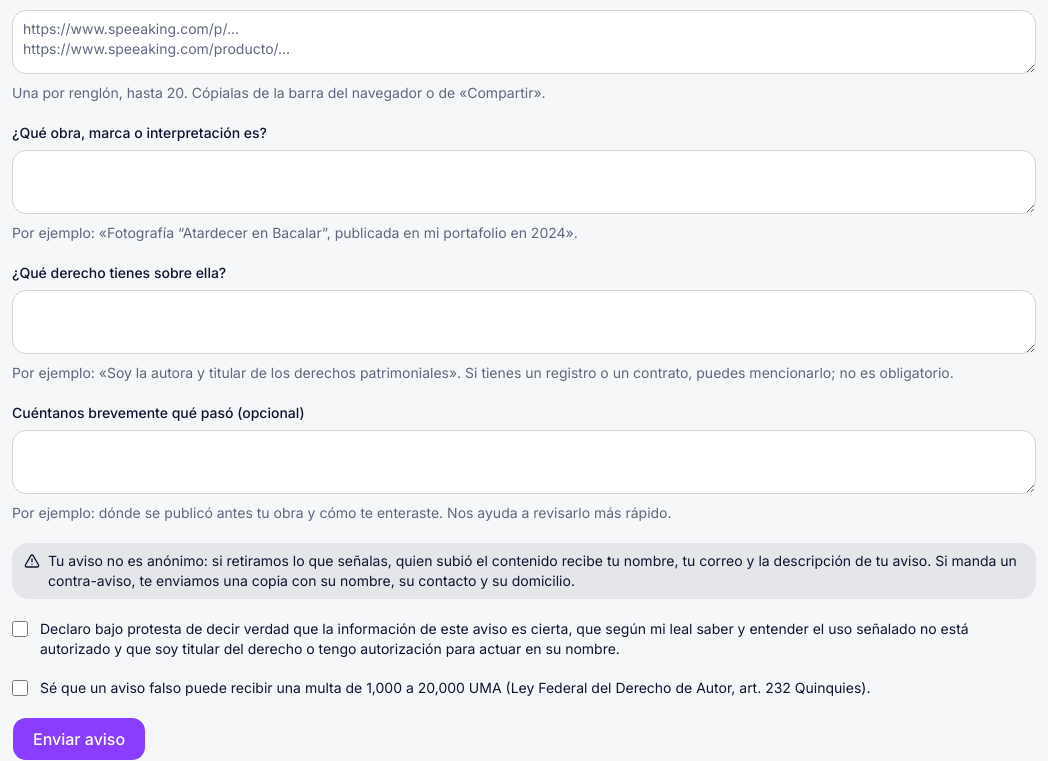
Test case: NoticeForm al enviarse (ADR-076) › si lo señalado es de varias cuentas, da un número de caso por cada una
(page scrolled)
Click the button "Enviar aviso" at (79, 739), box [12,717,146,760]
(page scrolled)
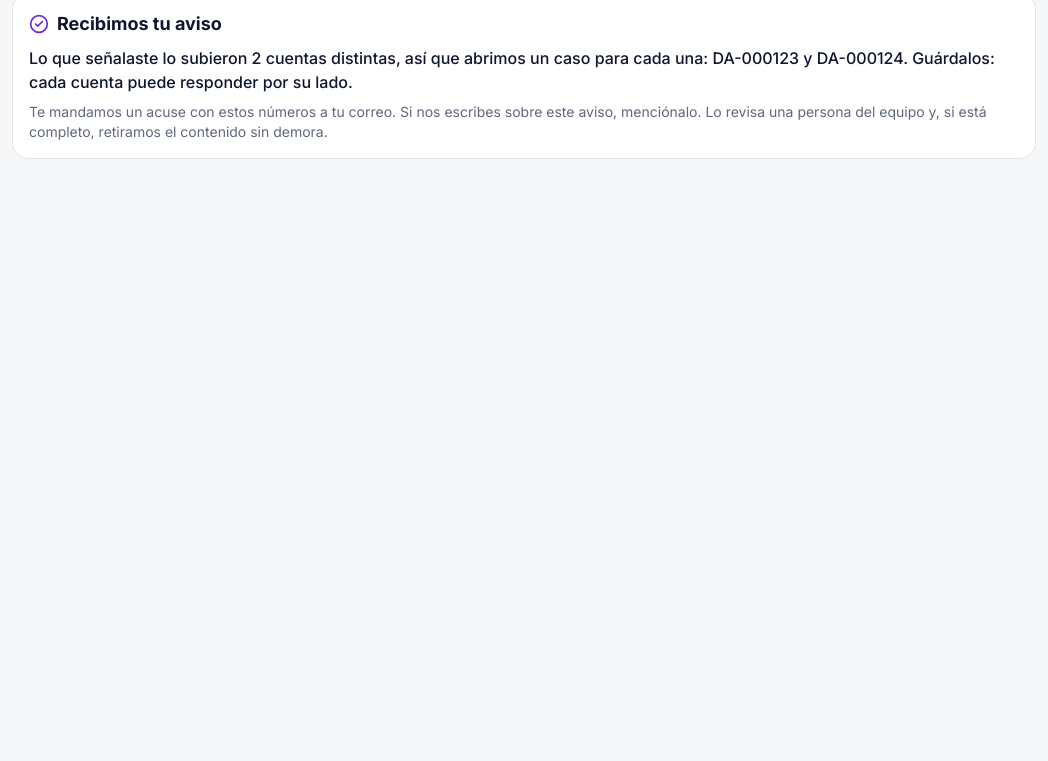
Result: the message shows "Lo que señalaste lo subieron 2 cuentas distintas, así que abrimos un caso para cada una: DA-000123 y DA-000124." at [29,48,995,92]
Result: the message shows "Te mandamos un acuse con estos números a tu correo." at [29,103,396,120]
